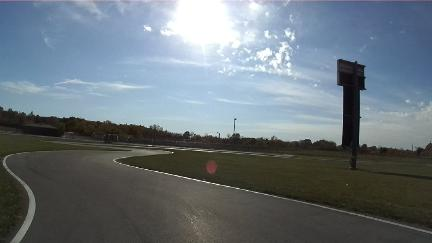Grass: (121, 151, 431, 227), (0, 133, 104, 160)
Lane: (7, 150, 431, 242)
